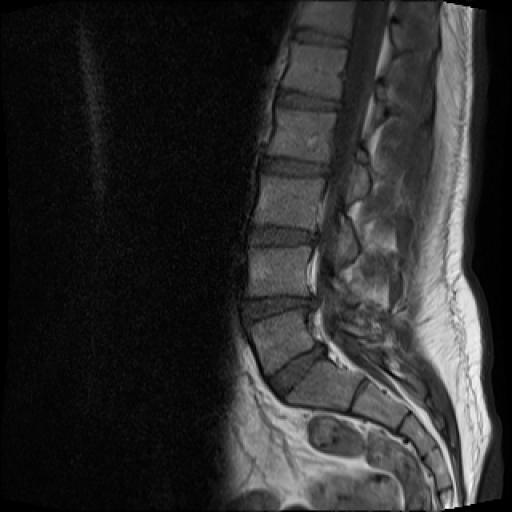L1: (281, 42, 347, 100)
L2: (267, 108, 336, 162)
L3: (251, 175, 322, 230)
L4: (248, 246, 310, 296)
L5: (250, 308, 314, 377)
S1: (286, 360, 365, 412)
